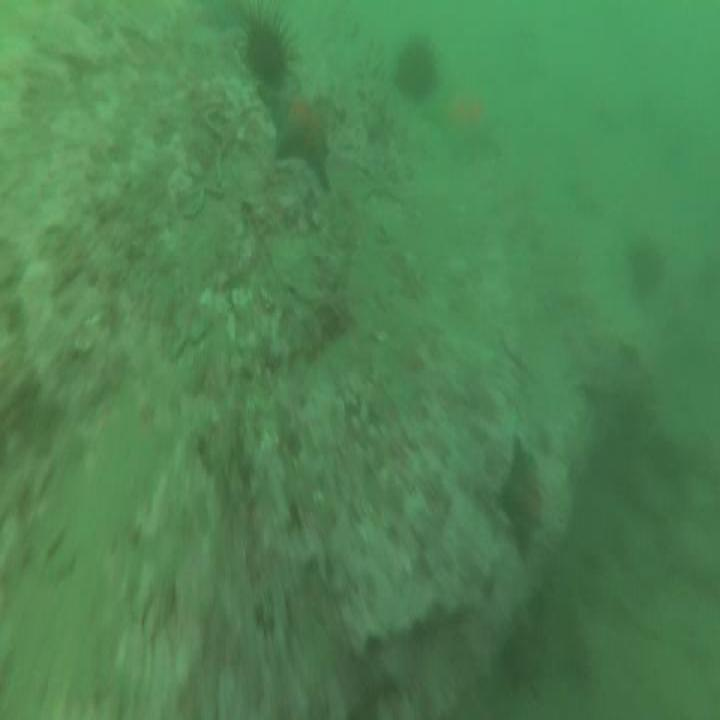echinus: (237, 0, 300, 98), (395, 32, 438, 110), (625, 233, 670, 304)
starfish: (256, 80, 336, 190), (424, 89, 510, 165), (499, 432, 546, 565)
